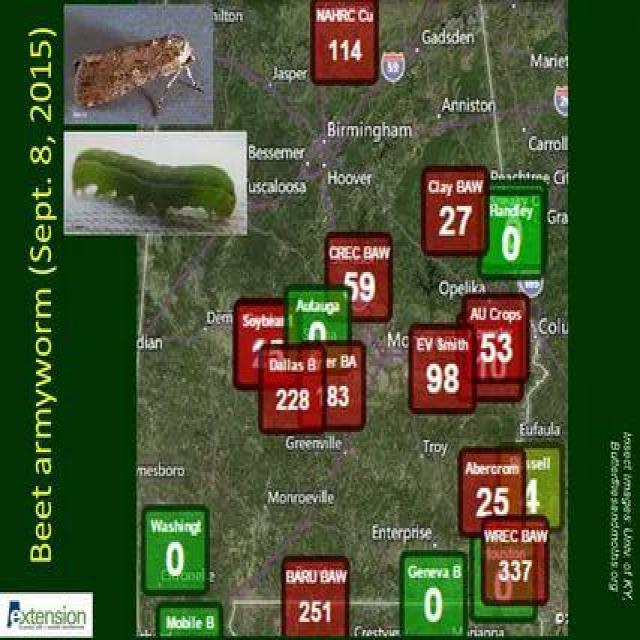BeetArmyWorm-Larva-: (67, 146, 241, 223)
